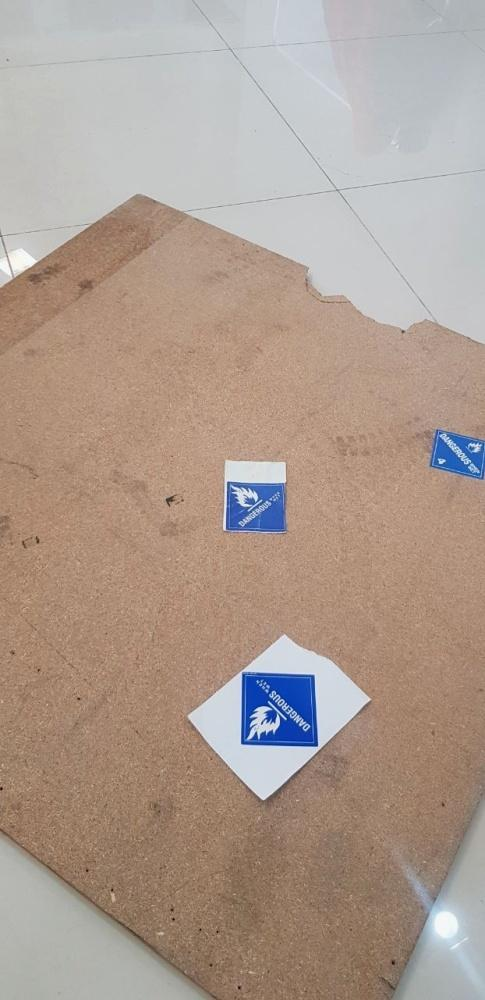dangerous-when-wet: (241, 671, 319, 748), (225, 480, 288, 534), (429, 428, 485, 480)
